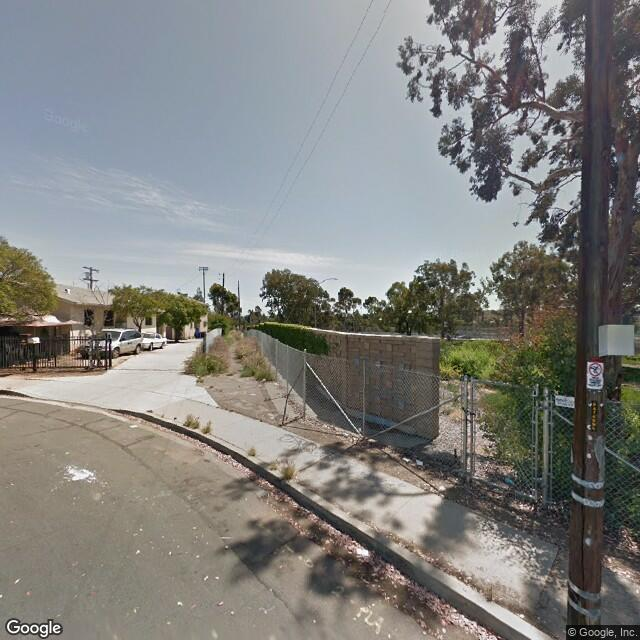litter: (351, 543, 375, 556), (259, 376, 269, 387), (401, 454, 410, 465), (437, 485, 447, 494), (416, 460, 424, 468), (130, 421, 137, 429)
